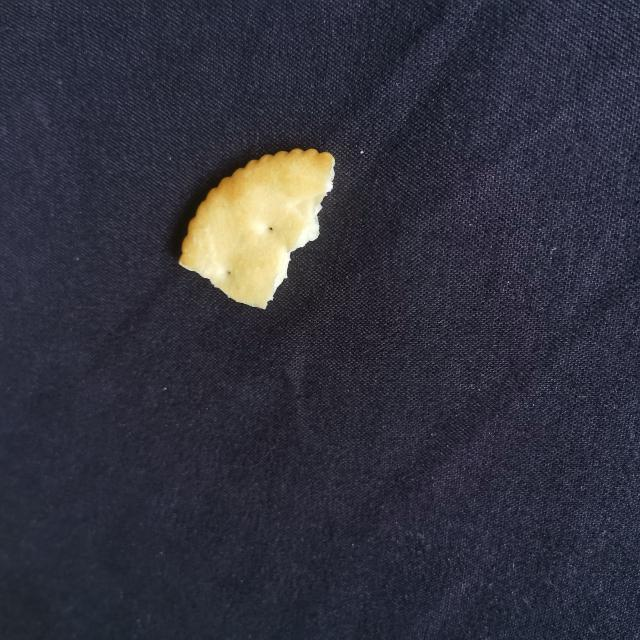Broken: (177, 146, 335, 310)
